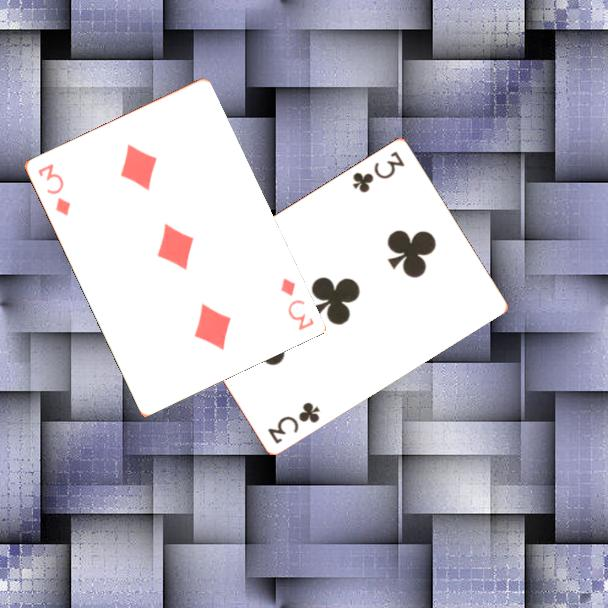c03: (264, 398, 323, 447), (349, 147, 408, 195)
d03: (276, 274, 317, 333), (34, 160, 73, 219)
